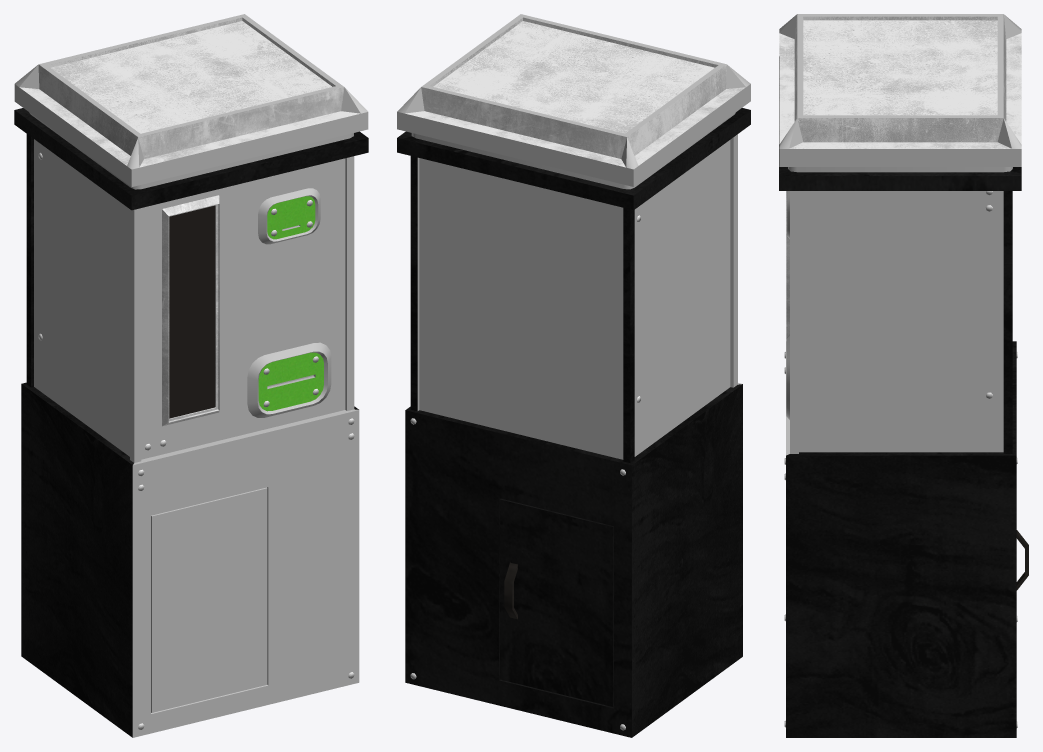
File: Ticket Consumertron.fbx
3 renders of one model, left to right at view 1: azimuth 30°, elevation 25°; view 2: azimuth 150°, elevation 25°; view 3: azimuth 270°, elevation 25°, orthographic. The views are drawn at different scales.
Visible parts, largest first — view 1: Cube.037; view 2: Cube.037; view 3: Cube.037.
Boxes of the visible parts, box(x1,y1,x2,y2) form: Cube.037: box(14, 14, 368, 737); Cube.037: box(397, 14, 750, 737); Cube.037: box(779, 14, 1028, 737).
Size of the model in its own units: 55.69 by 133 by 49.1.
